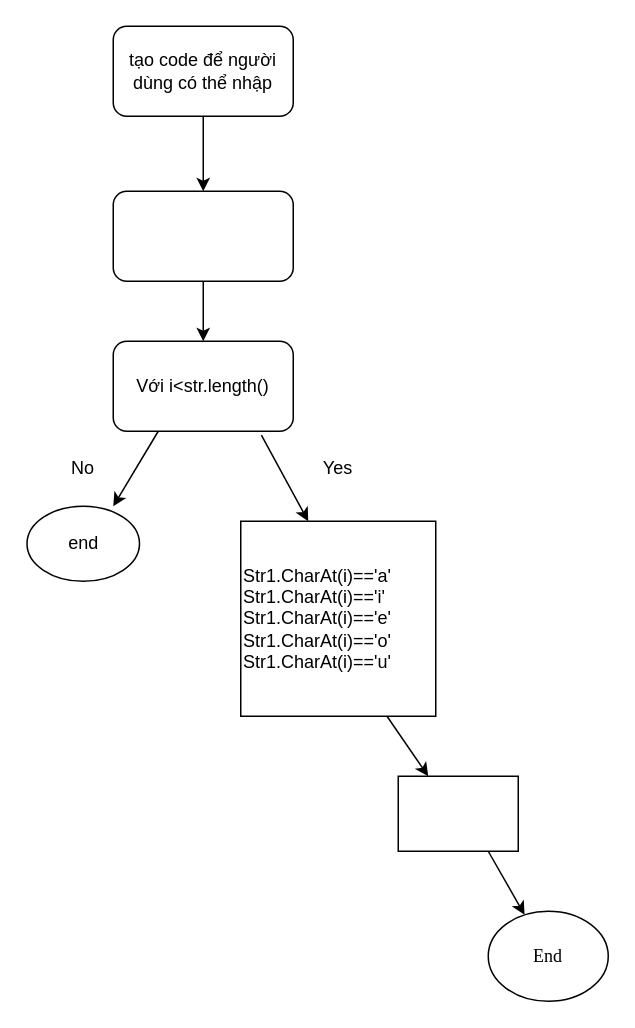
The diagram is 635 pixels wide and 1028 high, and some of its shapes have lost their labels. The shapes that lost their labels are listed below. From the top down, each one's box as (x1, y1, x2, y2) in pixels, then its label:
(112, 190, 293, 281): đặt hai biến i và count =0
(397, 775, 518, 851): count++
